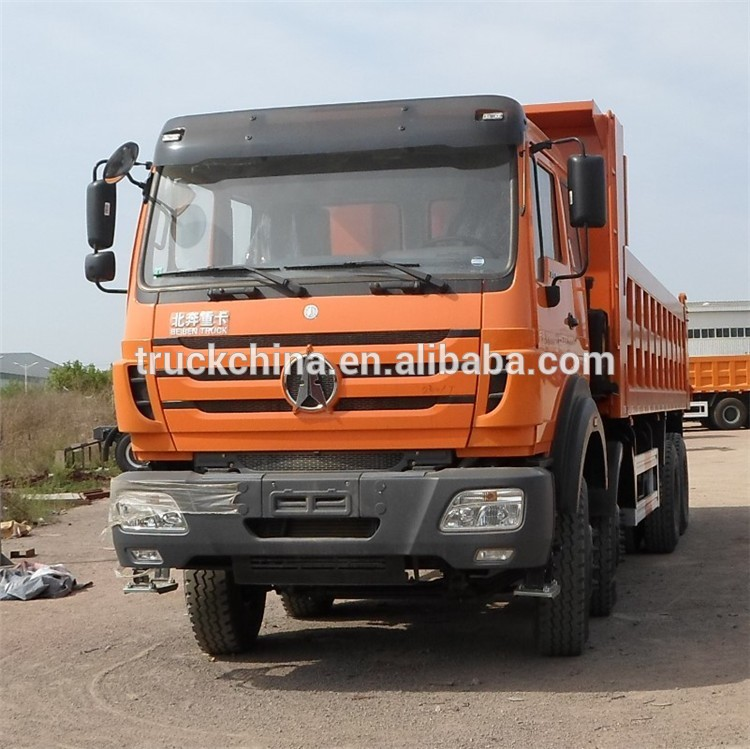truck: (76, 85, 692, 660)
